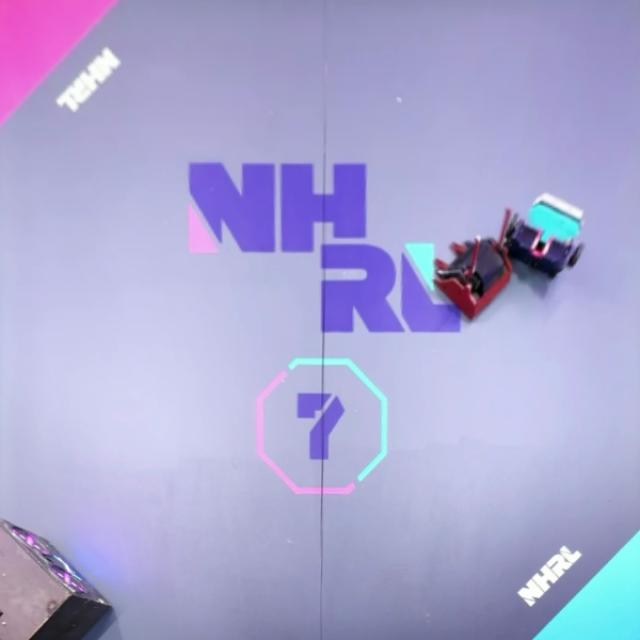housebot: (0, 520, 116, 640)
robot: (434, 204, 516, 319), (506, 193, 590, 280)
